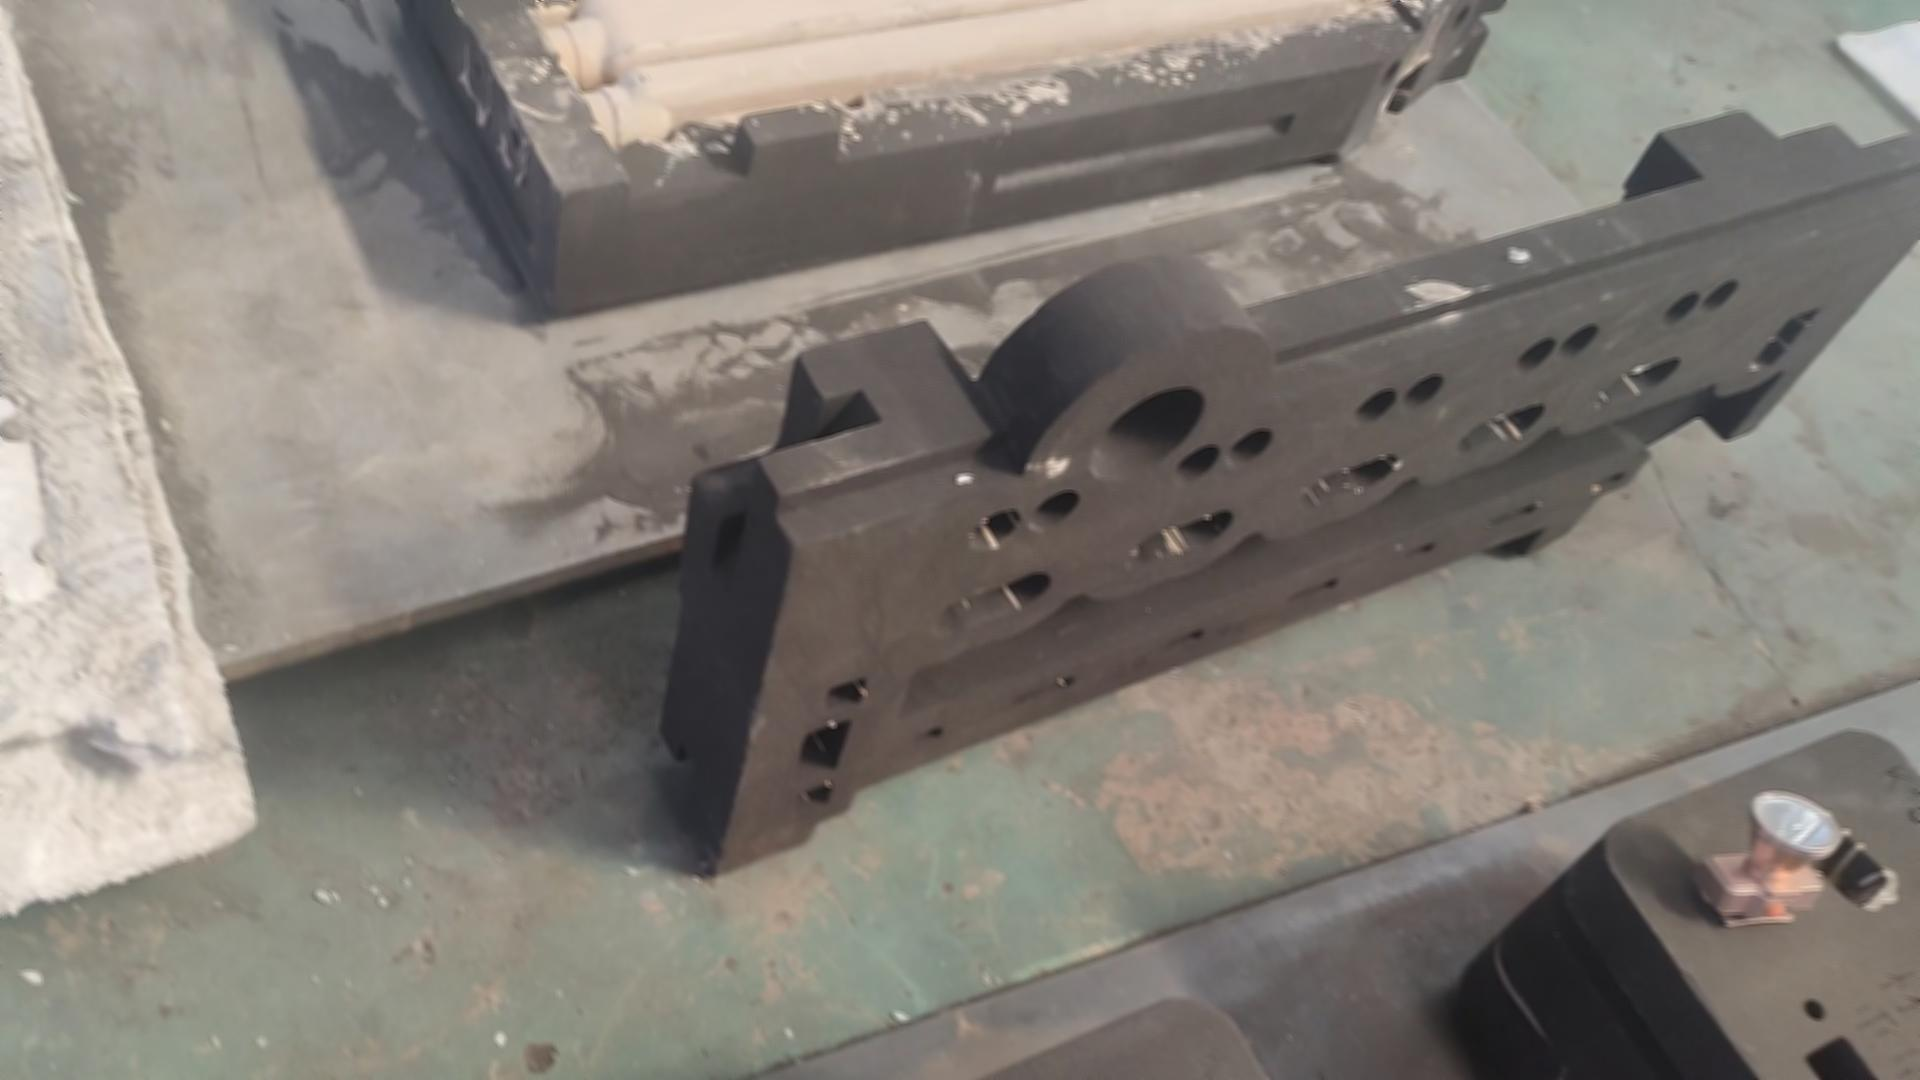pouring hole: (1088, 385, 1207, 483)
